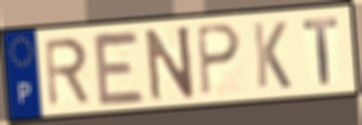E: (90, 29, 148, 108)
K: (250, 20, 293, 91)
N: (143, 23, 197, 104)
P: (194, 22, 243, 99)
R: (42, 35, 93, 110)
T: (300, 15, 340, 87)
